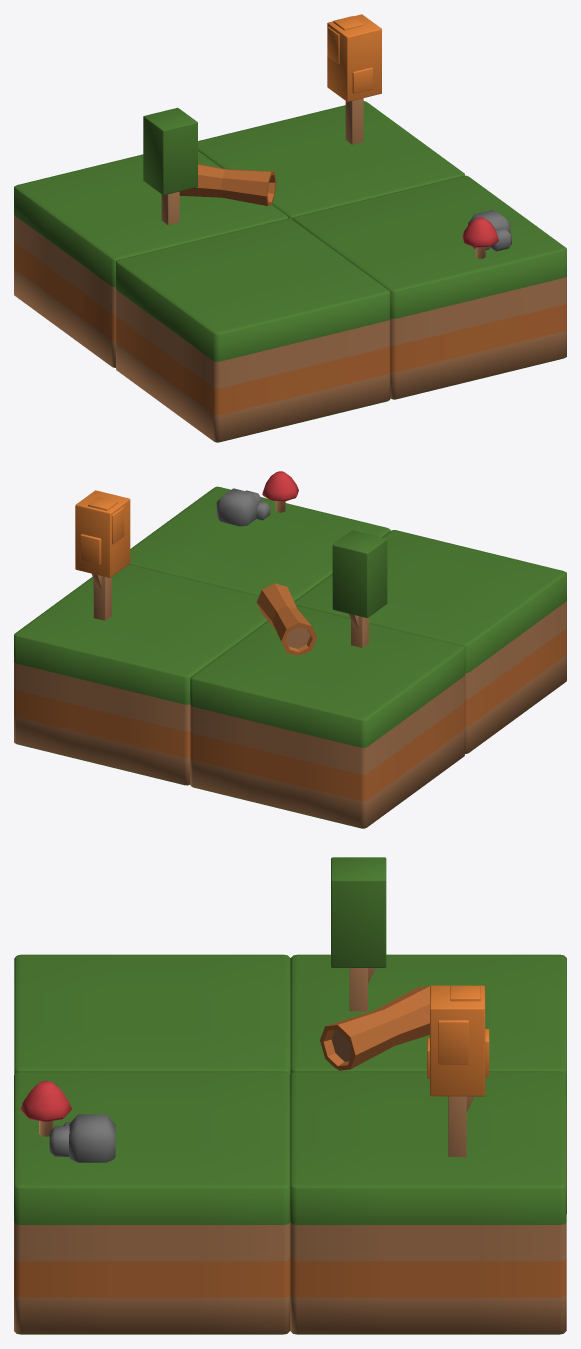
File: Obstaculo_tronco.fbx
3 views of the same model, one above another, from view 1: azimuth 30°, elevation 25°; view 2: azimuth 150°, elevation 25°; view 3: azimuth 270°, elevation 25° (orthographic). The views are drawn at different scales.
Parts seen in each view (by area): view 1: Bundle_Rocks2; view 2: Bundle_Rocks2; view 3: Bundle_Rocks2.
Boxes of the visible parts, box(x1,y1,x2,y2) form: Bundle_Rocks2: box(14, 14, 566, 442); Bundle_Rocks2: box(14, 471, 566, 828); Bundle_Rocks2: box(14, 857, 566, 1334).
Size of the model in its own units: 400 by 246 by 400.
